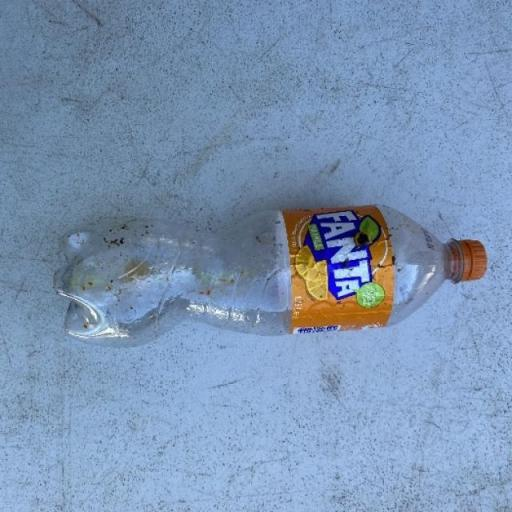plastic: (52, 202, 488, 345)
